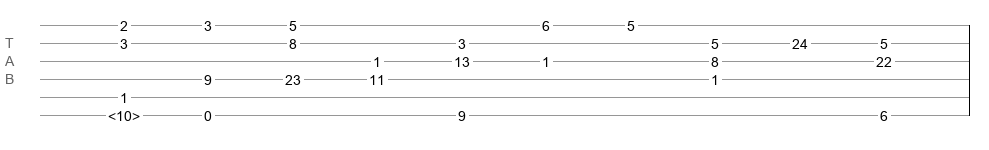0: (204, 108, 212, 118)
1: (120, 90, 128, 100), (373, 54, 381, 64), (542, 54, 550, 64), (711, 72, 719, 82)
11: (369, 72, 385, 82)
13: (454, 54, 470, 64)
2: (120, 18, 128, 28)
22: (876, 54, 892, 64)
23: (285, 72, 301, 82)
24: (792, 36, 808, 46)
3: (120, 36, 128, 46), (204, 18, 212, 28), (458, 36, 466, 46)
5: (289, 18, 297, 28), (627, 18, 635, 28), (711, 36, 719, 46), (880, 36, 888, 46)
6: (542, 18, 550, 28), (880, 108, 888, 118)
8: (289, 36, 297, 46), (711, 54, 719, 64)
9: (204, 72, 212, 82), (458, 108, 466, 118)
harmonic: (108, 108, 140, 118)
